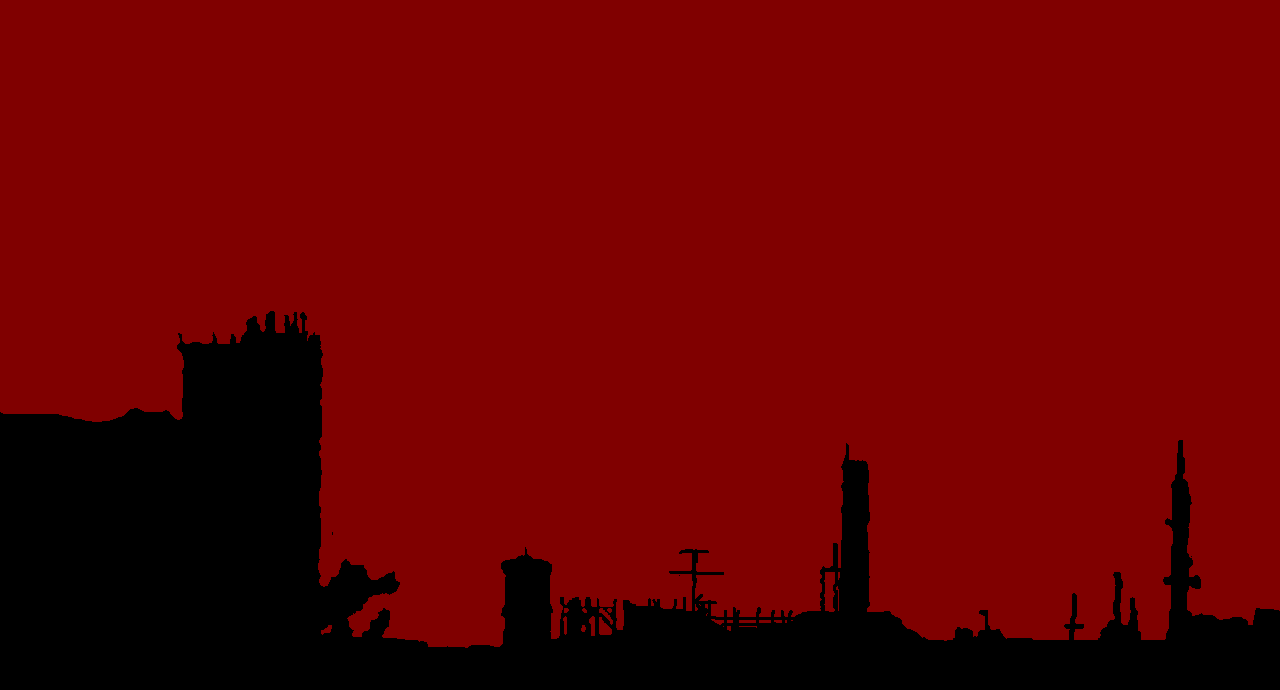Sky: (1, 1, 1279, 647)
